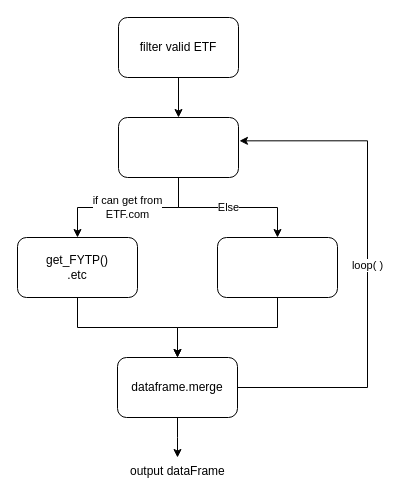
This 400x499 diagram has some shape labels left out. Here are the shapes that lost their labels. From the top down, the centre of each, then its label:
At pixel 178 147: "get all statistics()".
At pixel 277 267: "get_statistics()".
